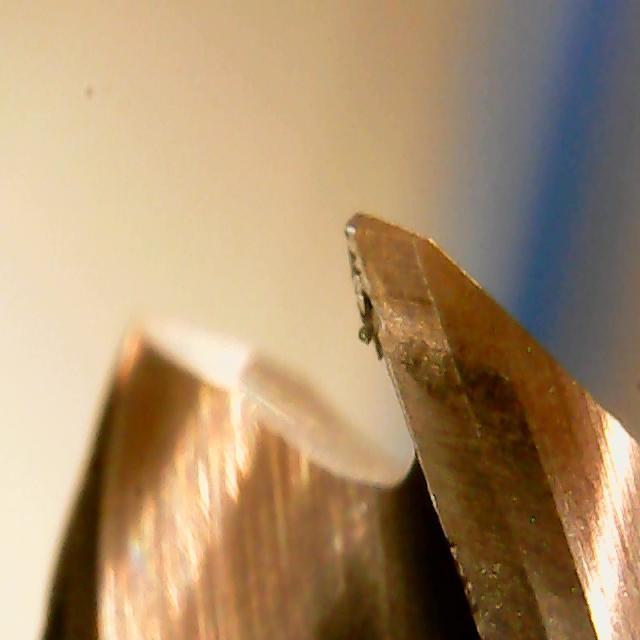Tool-wear-class-1: (298, 198, 511, 444)
